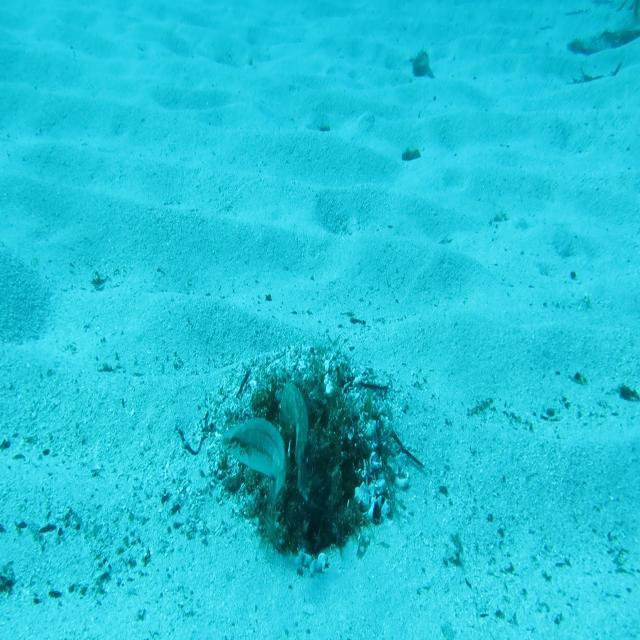NIP_IN: (276, 371, 311, 498)
female: (218, 413, 288, 518)
nest: (202, 329, 415, 583)
vegetation: (561, 0, 640, 85), (411, 50, 438, 83), (401, 143, 420, 167)
